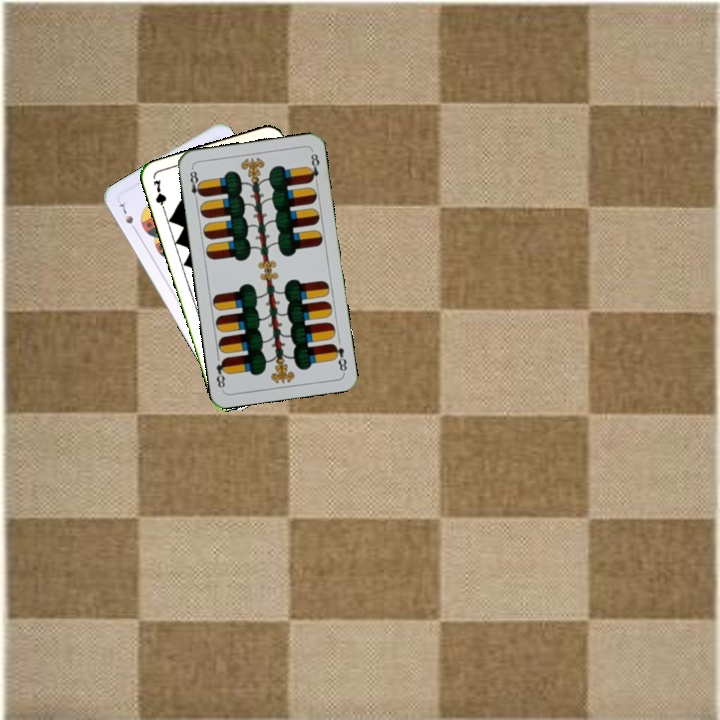E8: (186, 165, 205, 205), (328, 339, 349, 375)
G7: (149, 175, 169, 216)
S7: (116, 199, 140, 235)
